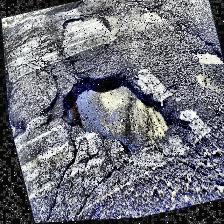pothole: (49, 57, 179, 171)
